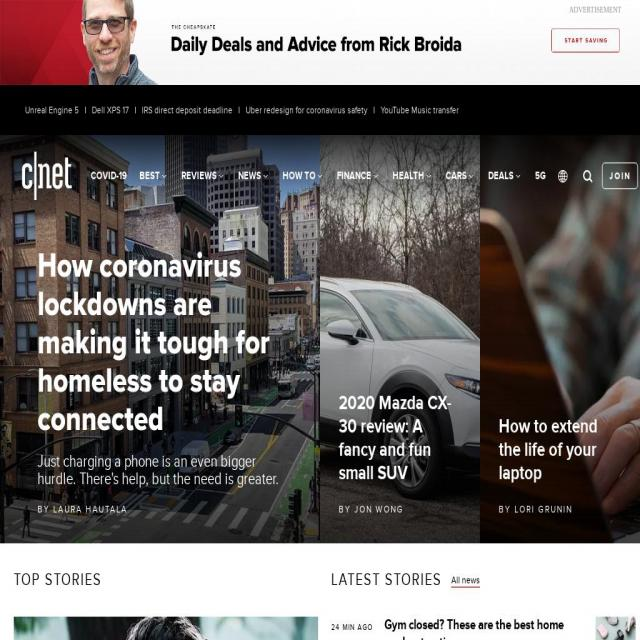language: (558, 162, 572, 188)
navigation-links: (17, 95, 640, 211)
search: (576, 164, 600, 189)
